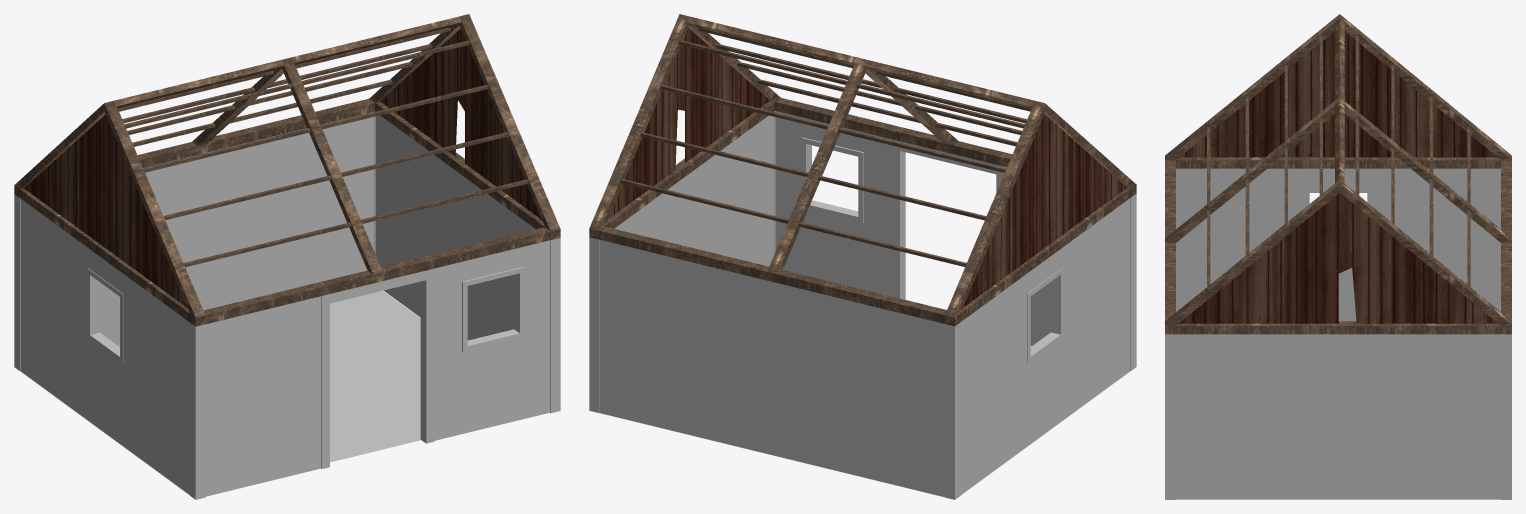
Rendered from Woodenhouse_t.fbx.
3 renders of one model, left to right at view 1: azimuth 30°, elevation 25°; view 2: azimuth 150°, elevation 25°; view 3: azimuth 270°, elevation 25°, orthographic. The views are drawn at different scales.
Parts seen in each view (by area): view 1: pCube51, pCube49; view 2: pCube51, pCube49; view 3: pCube51, pCube49.
Boxes of the visible parts, x1=… form: pCube51: x1=14, y1=111, x2=560, y2=499; pCube49: x1=14, y1=14, x2=560, y2=326; pCube51: x1=589, y1=111, x2=1136, y2=499; pCube49: x1=589, y1=14, x2=1136, y2=326; pCube51: x1=1165, y1=168, x2=1511, y2=499; pCube49: x1=1165, y1=14, x2=1511, y2=334.
Size of the model in its own units: 737 by 637 by 634.
